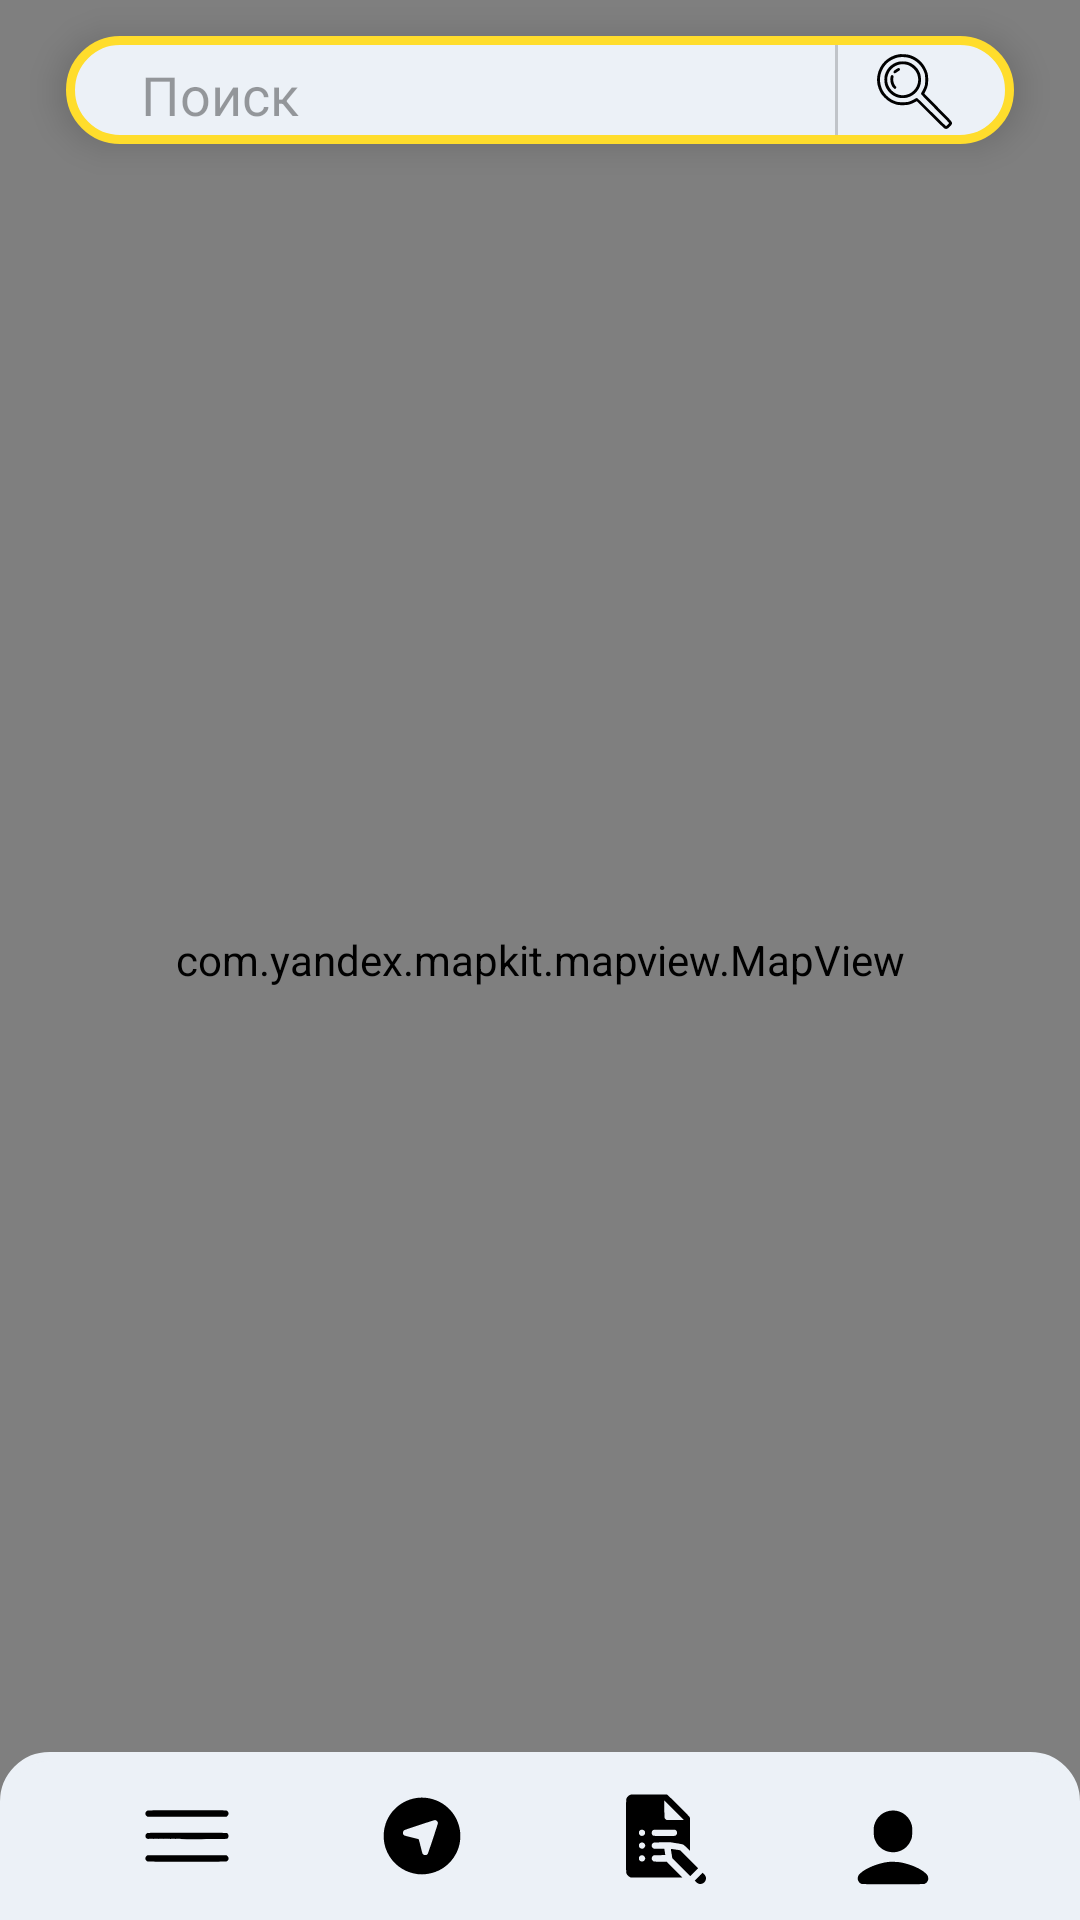

Point at icon controls on the screen. Image size 1080x1920, points as [x,y].
near me: [422,1836]
reservation: [666,1839]
search: [914,91]
user: [893,1847]
